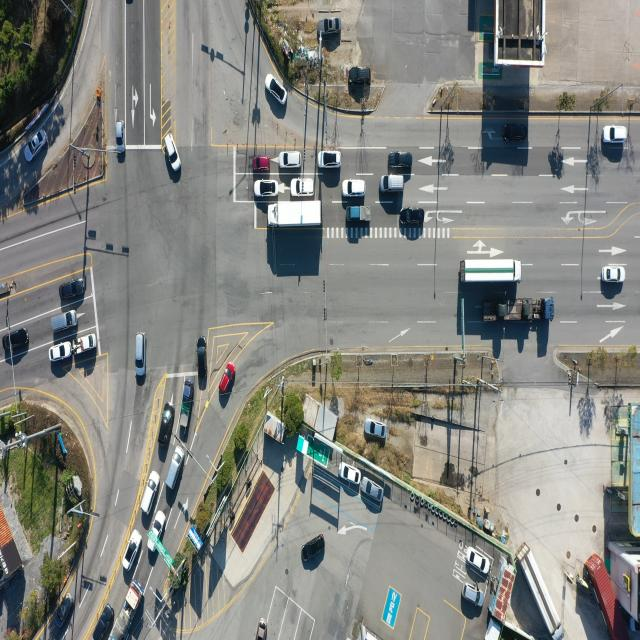car: (146, 510, 166, 559), (52, 590, 74, 632), (140, 471, 160, 516), (23, 128, 48, 162), (166, 444, 184, 490), (123, 530, 143, 571), (164, 133, 182, 173), (96, 604, 116, 640), (303, 534, 327, 563), (266, 75, 288, 105), (3, 330, 29, 354), (469, 548, 492, 574), (52, 312, 78, 334), (462, 583, 484, 609), (362, 480, 385, 504), (161, 408, 175, 447), (218, 362, 234, 395), (60, 280, 86, 300), (380, 174, 406, 193), (340, 462, 362, 484), (50, 342, 73, 363), (602, 126, 627, 145), (136, 332, 146, 378), (290, 178, 314, 197), (402, 207, 426, 226), (342, 182, 367, 200), (364, 419, 386, 439), (319, 151, 341, 171), (389, 150, 413, 168), (254, 179, 277, 197), (503, 125, 526, 143), (351, 66, 372, 85), (280, 152, 302, 170), (199, 339, 208, 381), (602, 268, 624, 284), (115, 121, 124, 153), (322, 18, 340, 34), (251, 158, 270, 173), (255, 618, 267, 640)
large_truck: (482, 297, 554, 323)
medium_truck: (520, 542, 565, 637), (110, 576, 144, 640), (461, 259, 522, 285), (267, 202, 322, 230)
small_truck: (178, 375, 195, 428), (348, 206, 372, 223), (78, 335, 97, 355)
